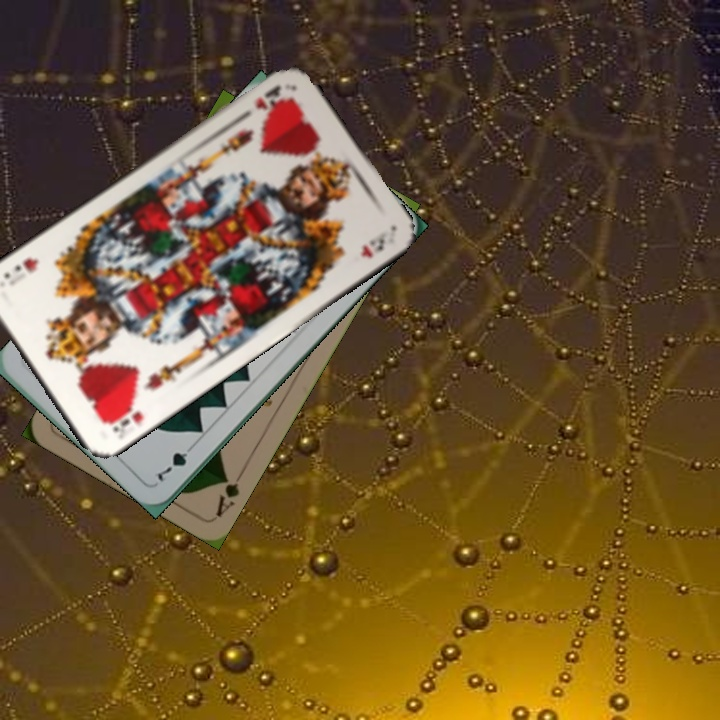G7: (153, 438, 198, 485)
GA: (211, 470, 243, 520)
HK: (100, 399, 146, 435), (251, 81, 288, 113)
